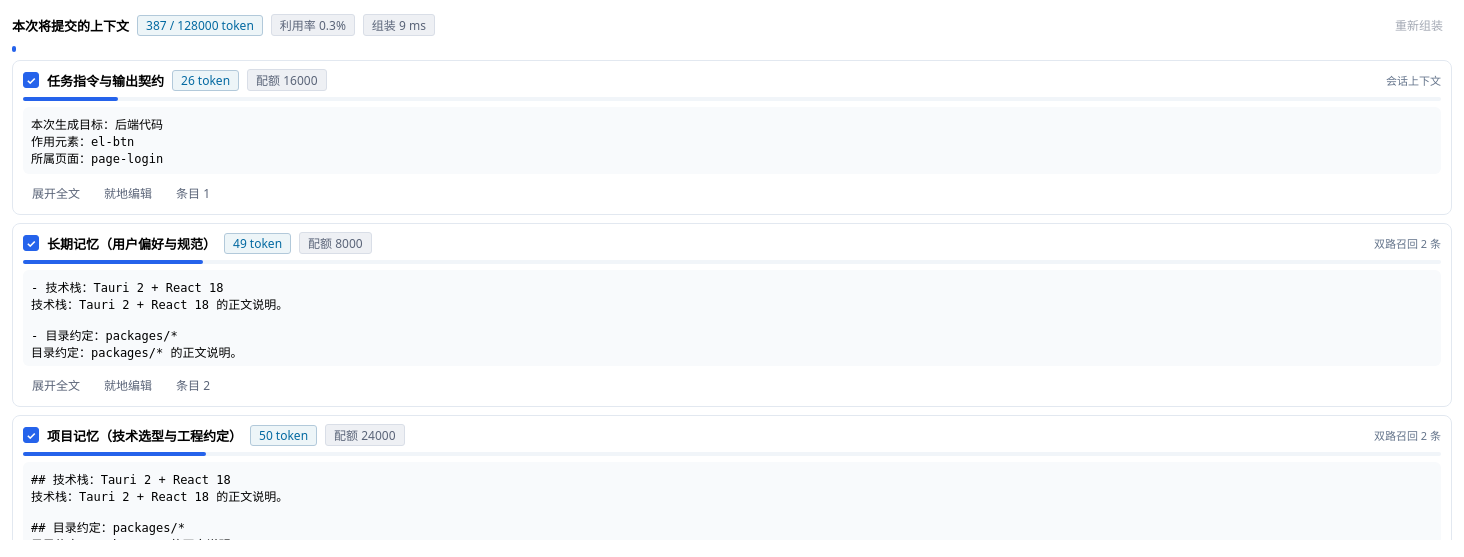
Test case: ContextPanel（T4-02 要点 3） › 取消勾选后该块标记为未提交，且提交内容随之变化
Expected: the text "项目记忆（技术选型与工程约定）" is shown, [47, 426, 242, 444]
Click the checkbox named "包含 项目记忆（技术选型与工程约定）".
click(31, 435)  # box [23, 427, 39, 443]
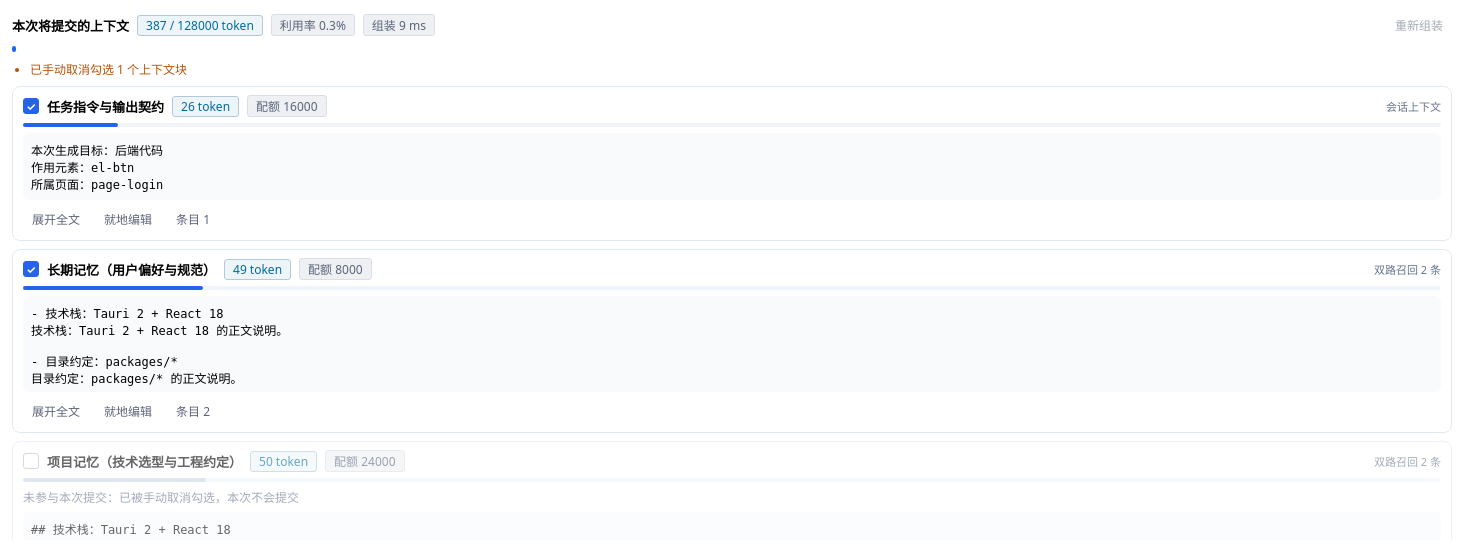
Result: the text "未参与本次提交：已被手动取消勾选，本次不会提交" is shown at [23, 489, 299, 506]
